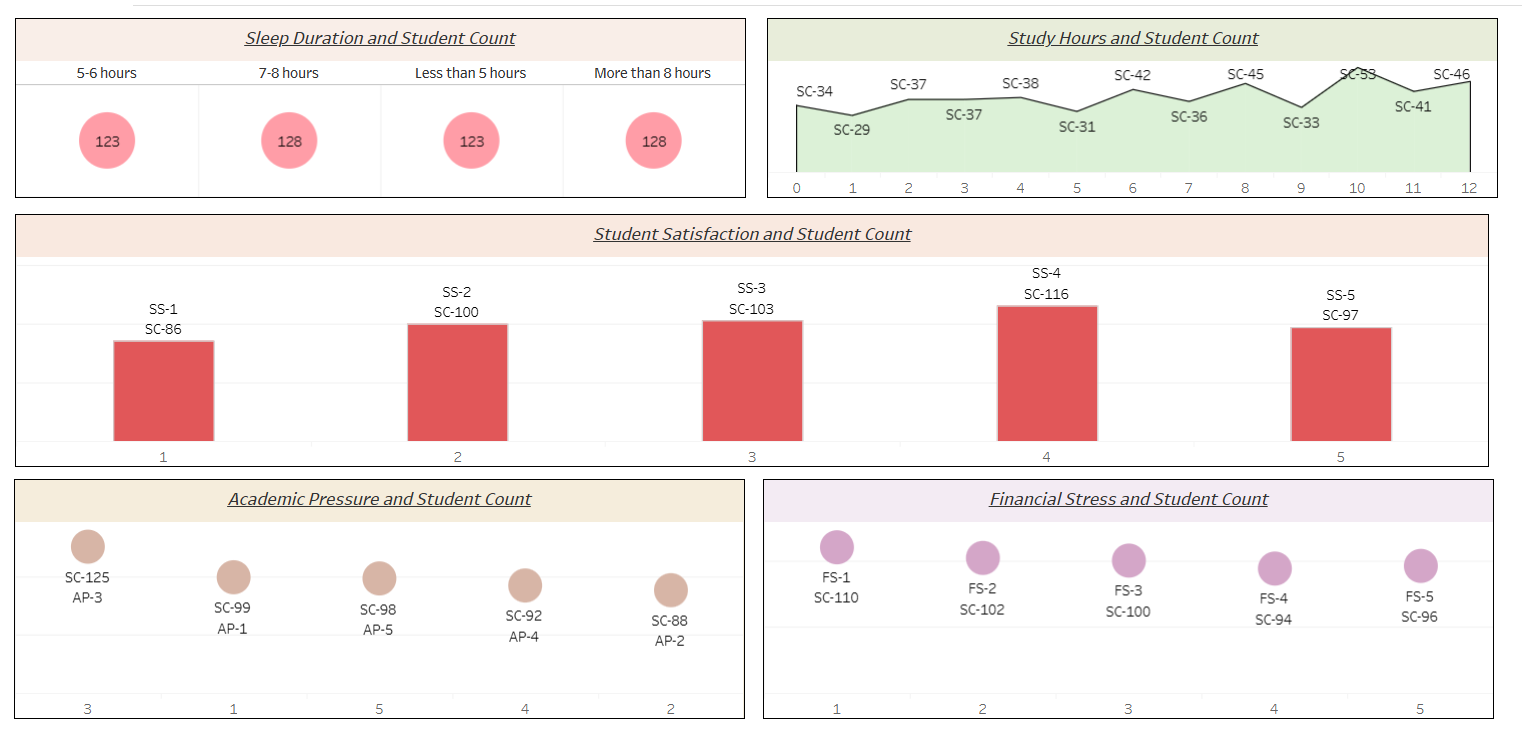

The page's visual inventory and layout, read from the dashboard file:
{"tool":"tableau","page":{"name":"Student depression analysis Dashboard","canvas":[1000,1000],"units":"permille","ordinal":0},"visuals":[{"type":"worksheet","title":"SD & SC","mark":"Pie","cols":["Sleep Duration"],"box":[8.2,15.6,395.6,236.6]},{"type":"worksheet","title":"SH & SC","mark":"Area","rows":["Index"],"cols":["Study Hours"],"box":[415.4,15.6,395.6,236.6]},{"type":"worksheet","title":"SS & SC","mark":"Automatic","rows":["Index"],"cols":["Study Satisfaction"],"box":[8.2,274.6,798.1,332.6]},{"type":"worksheet","title":"AP & SC","mark":"Circle","rows":["Index"],"cols":["Academic Pressure"],"box":[7.6,623.9,395.6,315.9]},{"type":"worksheet","title":"FS & SC","mark":"Circle","rows":["Index"],"cols":["Financial Stress"],"box":[413.1,623.9,395.6,315.9]}]}

Visuals, with their boxes on the dashboard's canvas, which has no fixed pixel size, in thousandths of its width and height (x1, y1, x2, y2). These are canvas units, not pixel positions in the 1522x733 screenshot, which may show the page scaled, cropped or inside an application window:
"SD & SC" worksheet (Pie marks): x1=8, y1=16, x2=404, y2=252
"SH & SC" worksheet (Area marks): x1=415, y1=16, x2=811, y2=252
"SS & SC" worksheet: x1=8, y1=275, x2=806, y2=607
"AP & SC" worksheet (Circle marks): x1=8, y1=624, x2=403, y2=940
"FS & SC" worksheet (Circle marks): x1=413, y1=624, x2=809, y2=940
